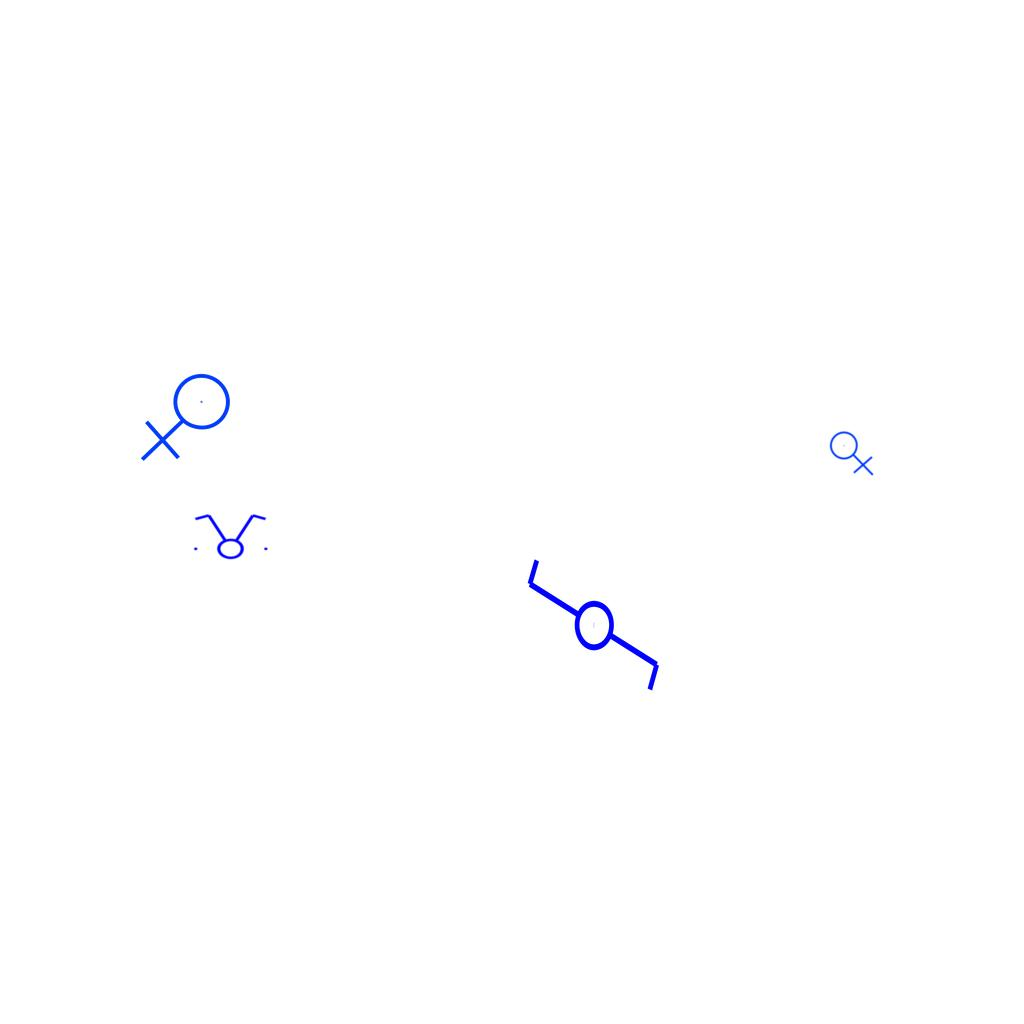Elektroanschluss_allgemein_230V_Geraeteanschlussdose_230V: (140, 372, 239, 466), (829, 427, 876, 476)
Serienschalter: (188, 512, 272, 560)
Wechselschalter: (520, 555, 664, 712)
